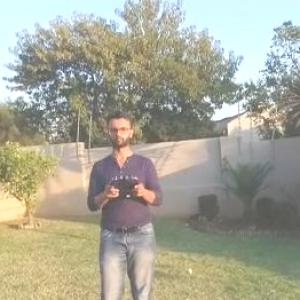follow: (81, 105, 171, 299)
